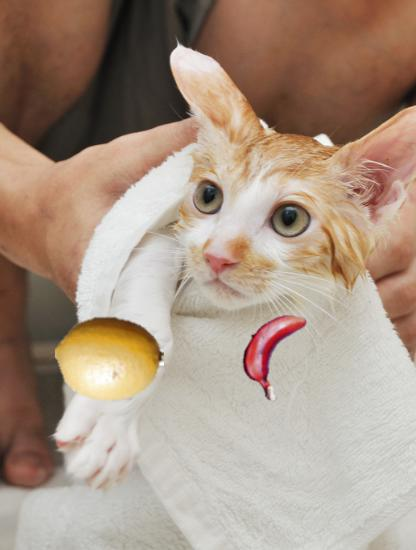Banana: (228, 306, 319, 397)
Lemon: (55, 305, 164, 414)
